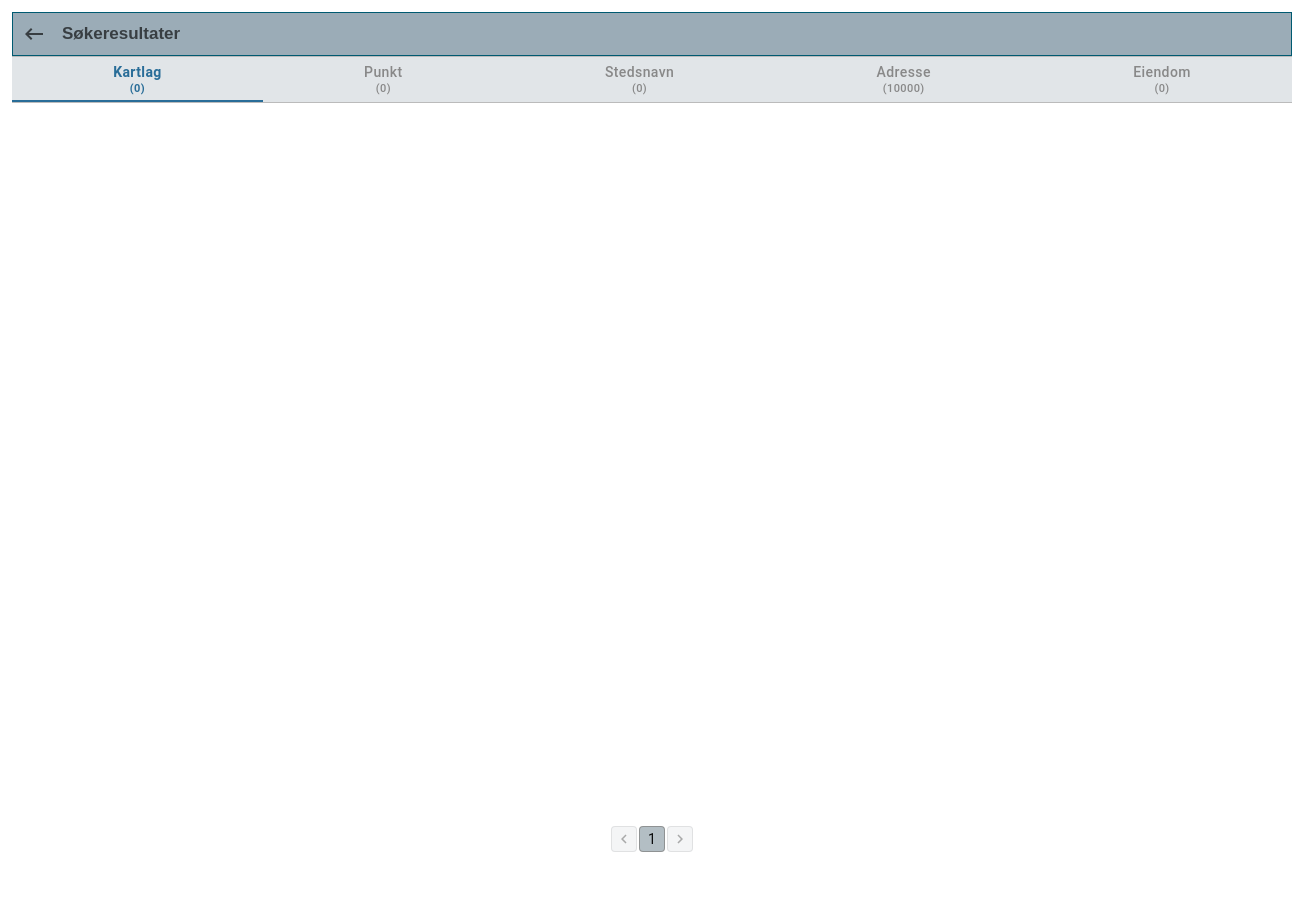
Test case: should render address results on search results page
This screenshot has width=1304, height=912.
Check: the text "Søkeresultater" is shown, box [62,24,180,44]
Check: the text "Kartlag" is shown, box [113,63,162,81]
Note: Click on address tab
Click the text "Adresse" at (904, 72), box [877,63,931,81]
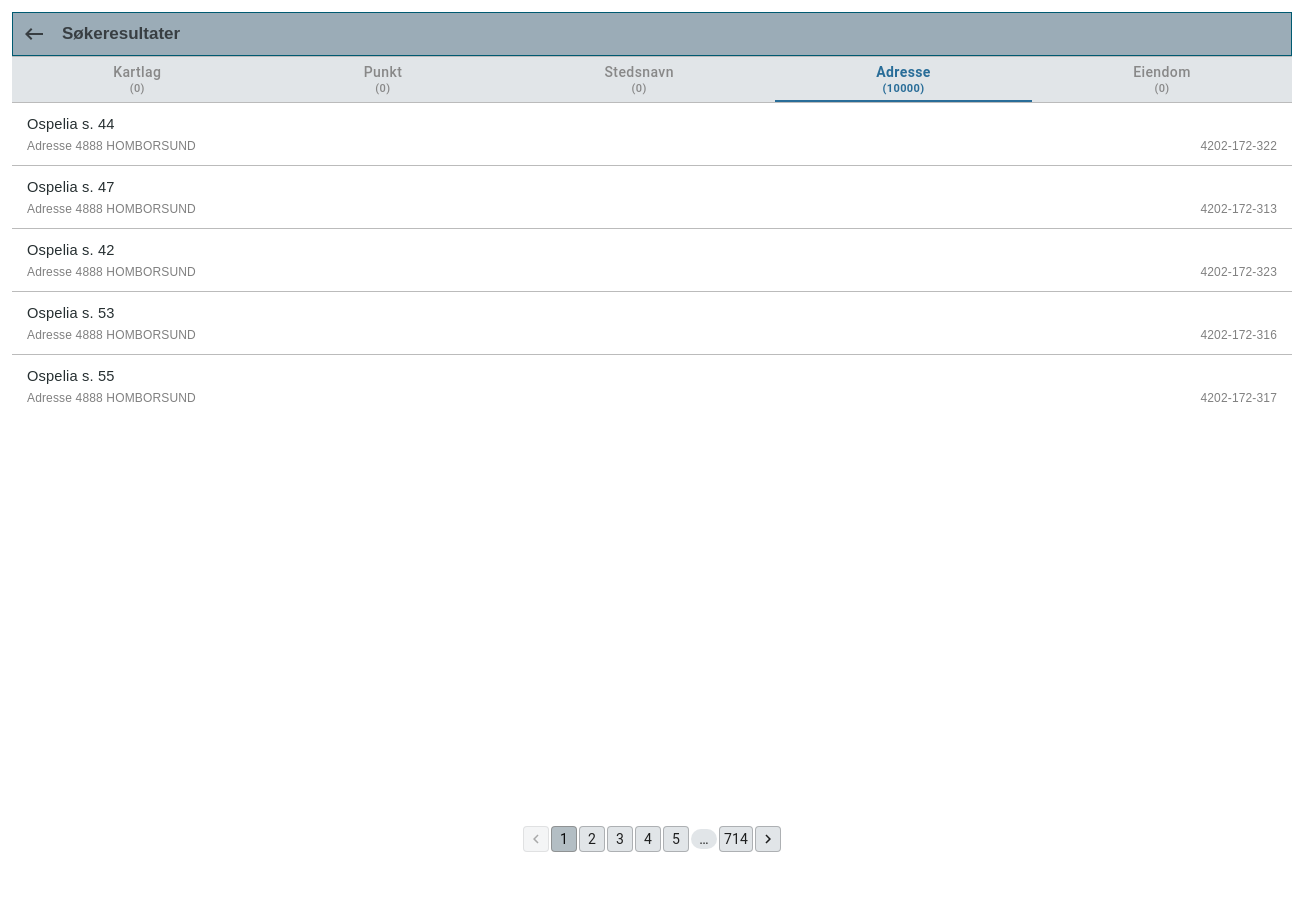
Check: the text "Ospelia s. 44" is shown, box [27,116,114,132]
Check: the text "4202-172-322" is shown, box [1200,139,1277,153]
Check: the text "Ospelia s. 47" is shown, box [27,179,114,195]
